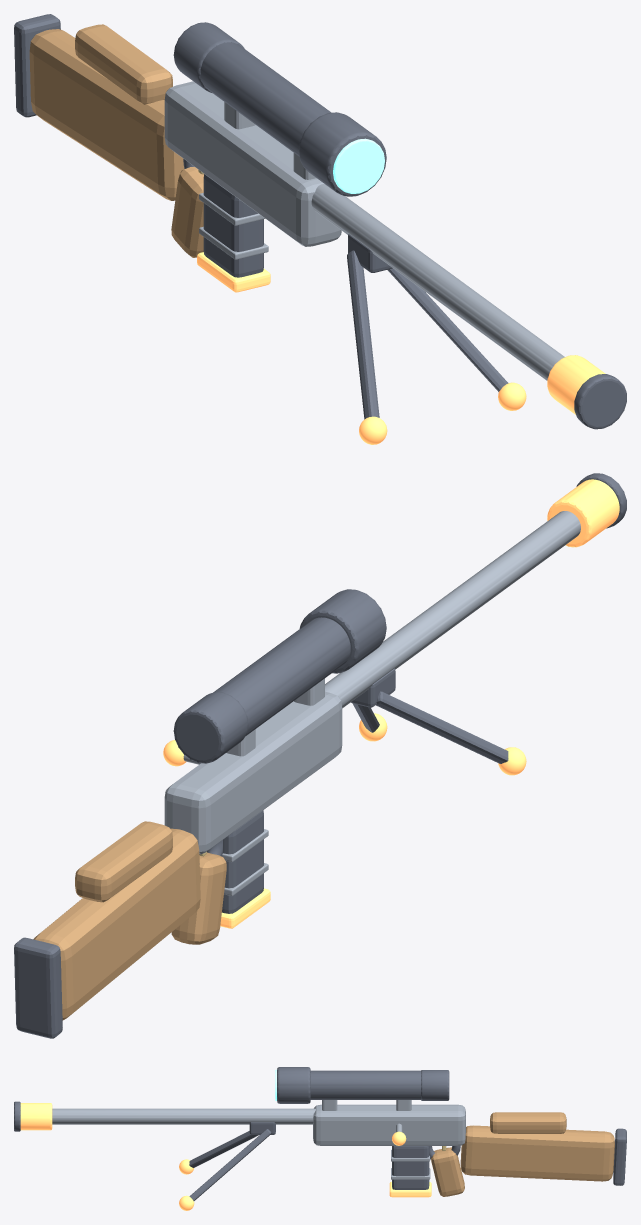
File: sniper_rifle.glb
3 views of the same model, one above another, from view 1: azimuth 30°, elevation 25°; view 2: azimuth 150°, elevation 25°; view 3: azimuth 270°, elevation 25° (orthographic). The views are drawn at different scales.
Parts seen in each view (by area): view 1: WPN_Sniper_Stock.001, WPN_Sniper_Receiver.001, WPN_Sniper_Barrel.001, WPN_Sniper_Scope.001, WPN_Sniper_Cheek.001, WPN_Sniper_MagBody.001, WPN_Sniper_ScopeObj.001, WPN_Sniper_BipodL.001, WPN_Sniper_Grip.001, WPN_Sniper_BrakeRing.001, WPN_Sniper_Lens.001, WPN_Sniper_BipodR.001 (+7 smaller); view 2: WPN_Sniper_Receiver.001, WPN_Sniper_Stock.001, WPN_Sniper_Barrel.001, WPN_Sniper_Scope.001, WPN_Sniper_ButtPad.001, WPN_Sniper_Cheek.001, WPN_Sniper_ScopeEye.001, WPN_Sniper_ScopeObj.001, WPN_Sniper_MagBody.001, WPN_Sniper_Grip.001, WPN_Sniper_Brake.001, WPN_Sniper_BipodL.001; view 3: WPN_Sniper_Stock.001, WPN_Sniper_Receiver.001, WPN_Sniper_Barrel.001, WPN_Sniper_Scope.001, WPN_Sniper_Cheek.001, WPN_Sniper_MagBody.001, WPN_Sniper_Grip.001, WPN_Sniper_ScopeObj.001, WPN_Sniper_Brake.001, WPN_Sniper_ScopeEye.001, WPN_Sniper_BipodR.001, WPN_Sniper_ButtPad.001 (+3 smaller).
Boxes of the visible parts, <box> form: WPN_Sniper_Stock.001: <box>29,29,184,200</box>; WPN_Sniper_Receiver.001: <box>164,81,341,246</box>; WPN_Sniper_Barrel.001: <box>311,184,564,380</box>; WPN_Sniper_Scope.001: <box>200,42,330,156</box>; WPN_Sniper_Cheek.001: <box>75,24,172,104</box>; WPN_Sniper_MagBody.001: <box>203,174,263,277</box>; WPN_Sniper_ScopeObj.001: <box>298,112,386,196</box>; WPN_Sniper_BipodL.001: <box>347,250,379,419</box>; WPN_Sniper_Grip.001: <box>171,167,203,257</box>; WPN_Sniper_BrakeRing.001: <box>574,374,626,429</box>; WPN_Sniper_Lens.001: <box>333,138,384,193</box>; WPN_Sniper_BipodR.001: <box>387,268,508,391</box>; WPN_Sniper_Receiver.001: <box>164,691,342,854</box>; WPN_Sniper_Stock.001: <box>33,828,200,1020</box>; WPN_Sniper_Barrel.001: <box>325,511,580,708</box>; WPN_Sniper_Scope.001: <box>213,617,350,736</box>; WPN_Sniper_ButtPad.001: <box>14,937,62,1038</box>; WPN_Sniper_Cheek.001: <box>75,821,172,902</box>; WPN_Sniper_ScopeEye.001: <box>173,692,248,763</box>; WPN_Sniper_ScopeObj.001: <box>299,589,386,673</box>; WPN_Sniper_MagBody.001: <box>222,810,263,913</box>; WPN_Sniper_Grip.001: <box>171,852,226,944</box>; WPN_Sniper_Brake.001: <box>547,479,619,547</box>; WPN_Sniper_BipodL.001: <box>376,691,508,763</box>; WPN_Sniper_Stock.001: <box>460,1125,614,1181</box>; WPN_Sniper_Receiver.001: <box>313,1104,465,1145</box>; WPN_Sniper_Barrel.001: <box>52,1108,315,1124</box>; WPN_Sniper_Scope.001: <box>310,1070,420,1099</box>; WPN_Sniper_Cheek.001: <box>490,1112,566,1133</box>; WPN_Sniper_MagBody.001: <box>392,1146,429,1189</box>; WPN_Sniper_Grip.001: <box>431,1147,464,1196</box>; WPN_Sniper_ScopeObj.001: <box>277,1067,310,1103</box>; WPN_Sniper_Brake.001: <box>20,1103,52,1130</box>; WPN_Sniper_ScopeEye.001: <box>421,1070,449,1100</box>; WPN_Sniper_BipodR.001: <box>189,1129,271,1200</box>; WPN_Sniper_ButtPad.001: <box>613,1128,626,1185</box>.
Bounding box in the file's own units: 0.212 × 0.2906 × 1.28.
